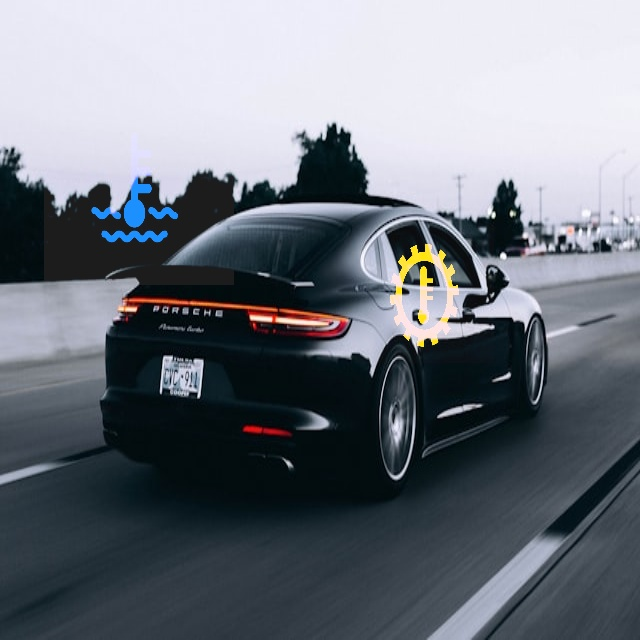symbol: (44, 95, 234, 285), (354, 223, 494, 363)
